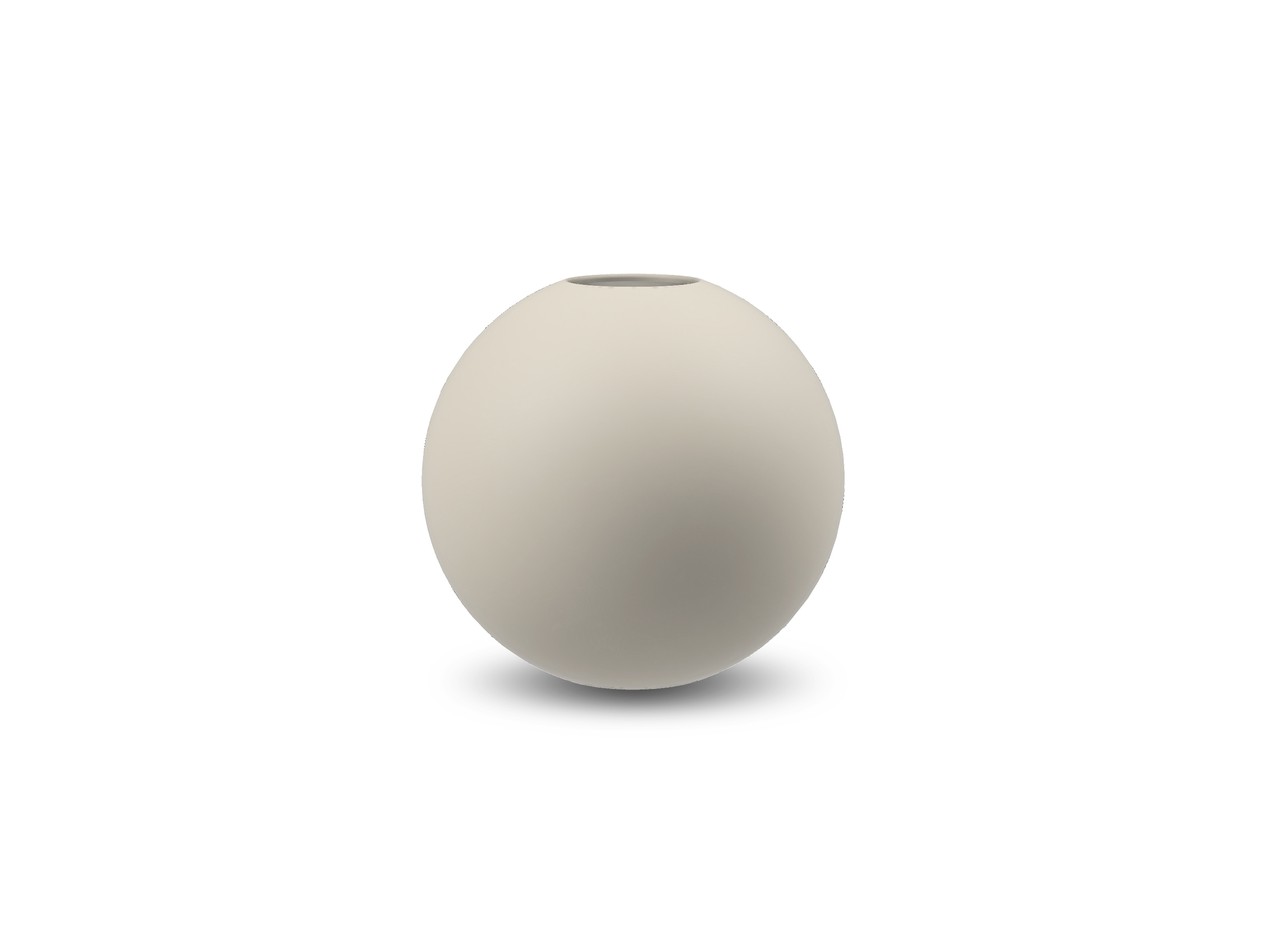sphere: (422, 276, 845, 690)
